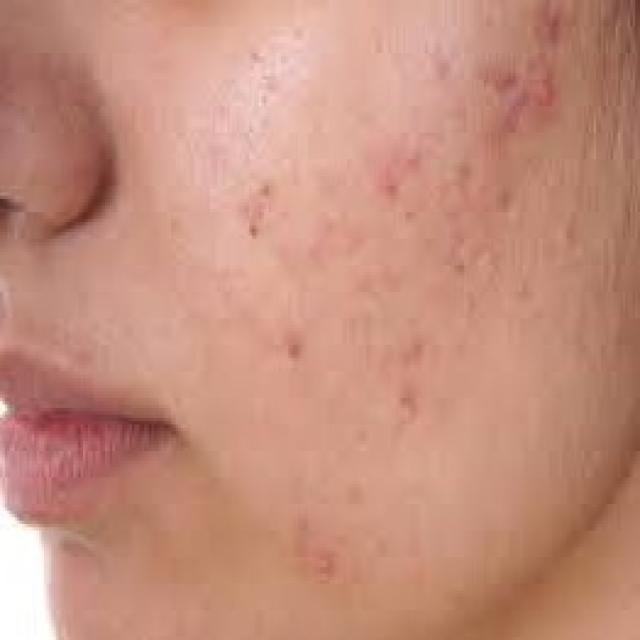Acne: (519, 25, 566, 137), (386, 332, 435, 428), (293, 504, 342, 575), (458, 191, 501, 267), (380, 148, 432, 199), (248, 192, 291, 239), (472, 78, 514, 116), (278, 302, 303, 356), (274, 322, 315, 346)
